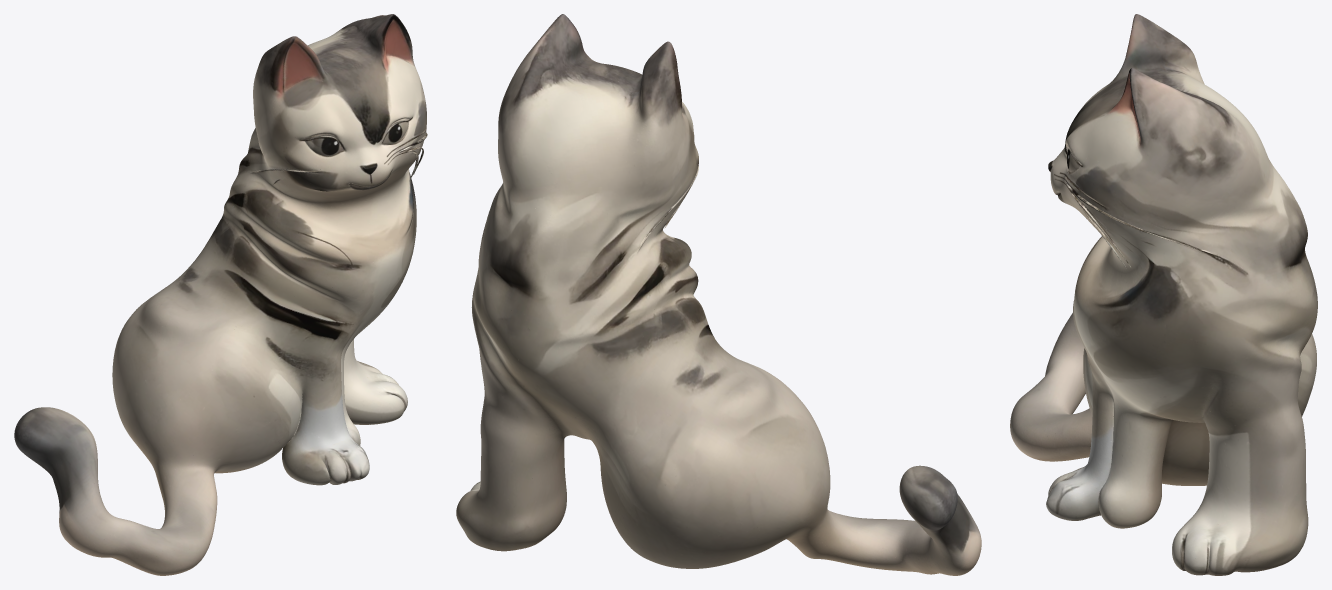
The model's file is Siblings-left-cat_1.glb.
3 views of the same model, side by side, from view 1: azimuth 30°, elevation 25°; view 2: azimuth 150°, elevation 25°; view 3: azimuth 270°, elevation 25° (orthographic). The views are drawn at different scales.
Visible parts, largest first — view 1: model; view 2: model; view 3: model.
Part boxes in pixels (x1,y1,x2,y2): model: (14, 14, 427, 575); model: (456, 14, 981, 575); model: (1010, 14, 1317, 575).
Size of the model in its own units: 1.75 by 1.91 by 1.01.
Materials: 1 (1 with a texture image).
